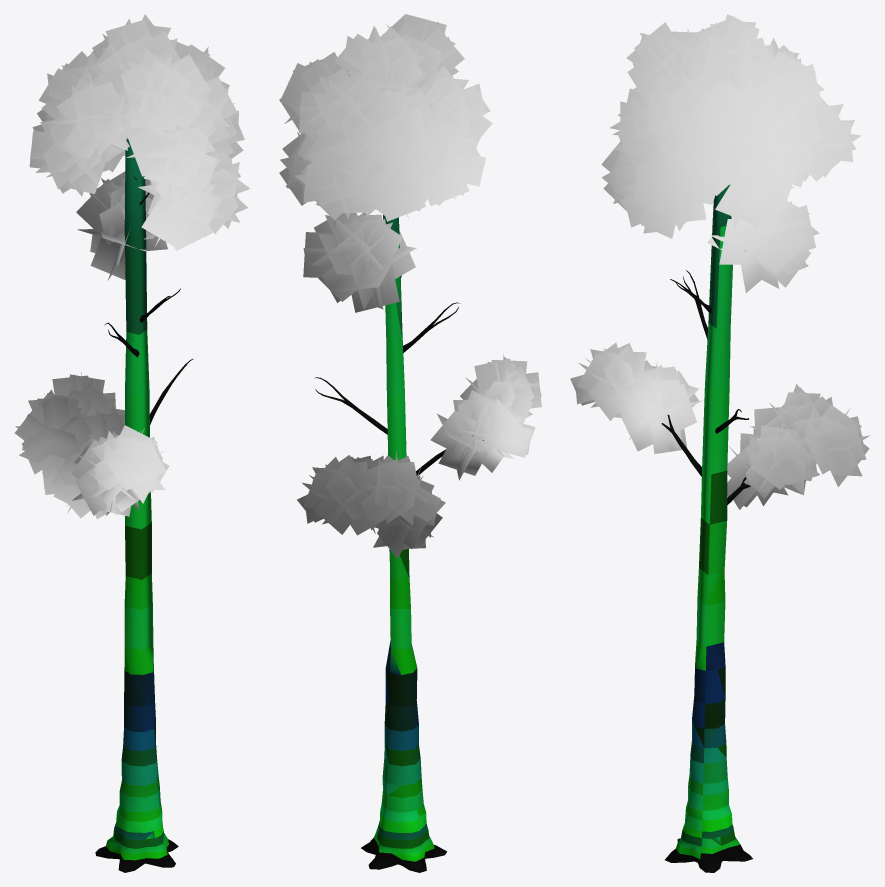
The model's file is SM_tree_pine_02.fbx.
3 renders of one model, left to right at view 1: azimuth 30°, elevation 25°; view 2: azimuth 150°, elevation 25°; view 3: azimuth 270°, elevation 25°, orthographic. The views are drawn at different scales.
Parts seen in each view (by area): view 1: Object32465; view 2: Object32465; view 3: Object32465.
Boxes of the visible parts, x1=… form: Object32465: x1=14, y1=14, x2=249, y2=872; Object32465: x1=279, y1=14, x2=541, y2=872; Object32465: x1=570, y1=14, x2=870, y2=872.
Bounding box in the file's own units: 97.02 × 387 × 125.
